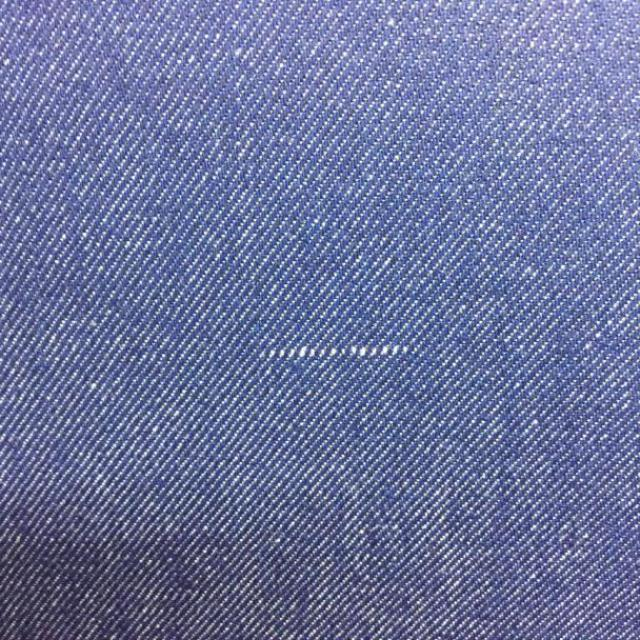Knot: (266, 345, 418, 359)
